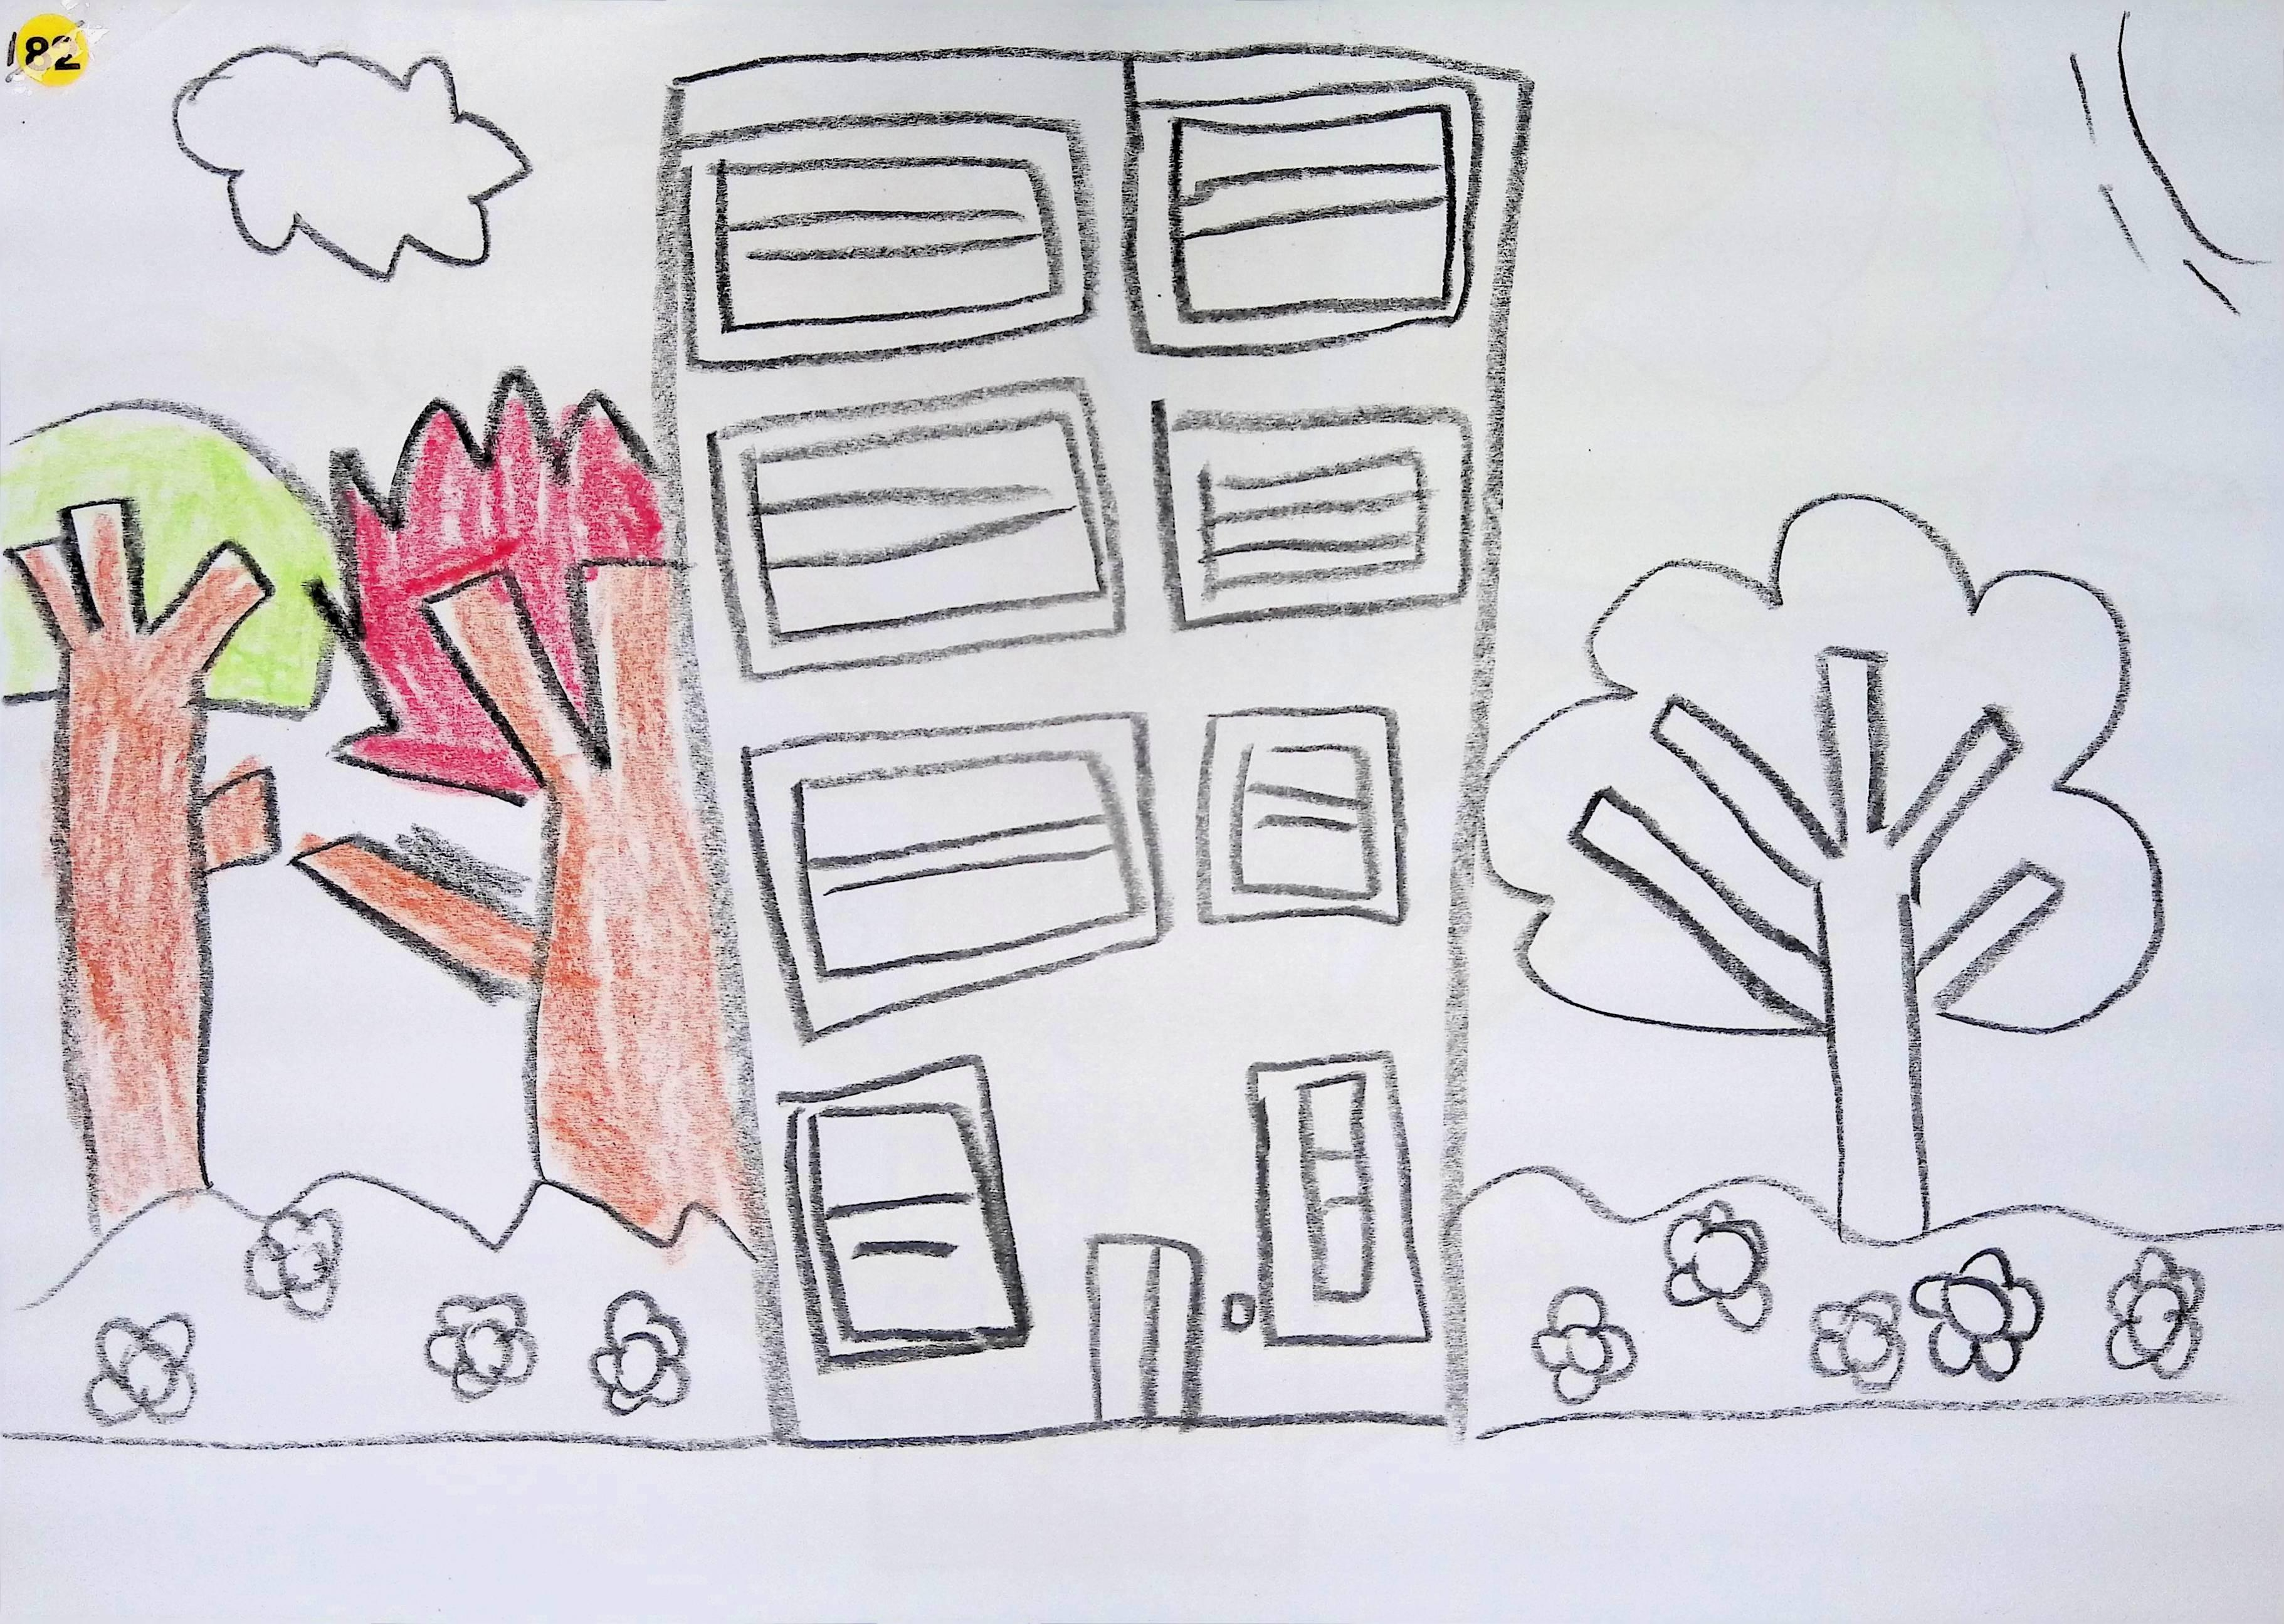door: (1087, 1236, 1204, 1424)
house: (659, 44, 1528, 1443)
wall: (663, 46, 1528, 1443)
window: (744, 714, 1162, 1039), (709, 376, 1122, 675), (682, 111, 1094, 364), (1124, 81, 1486, 359), (779, 1056, 1029, 1371), (1153, 401, 1473, 624), (1250, 1053, 1431, 1346), (1199, 708, 1405, 923)
